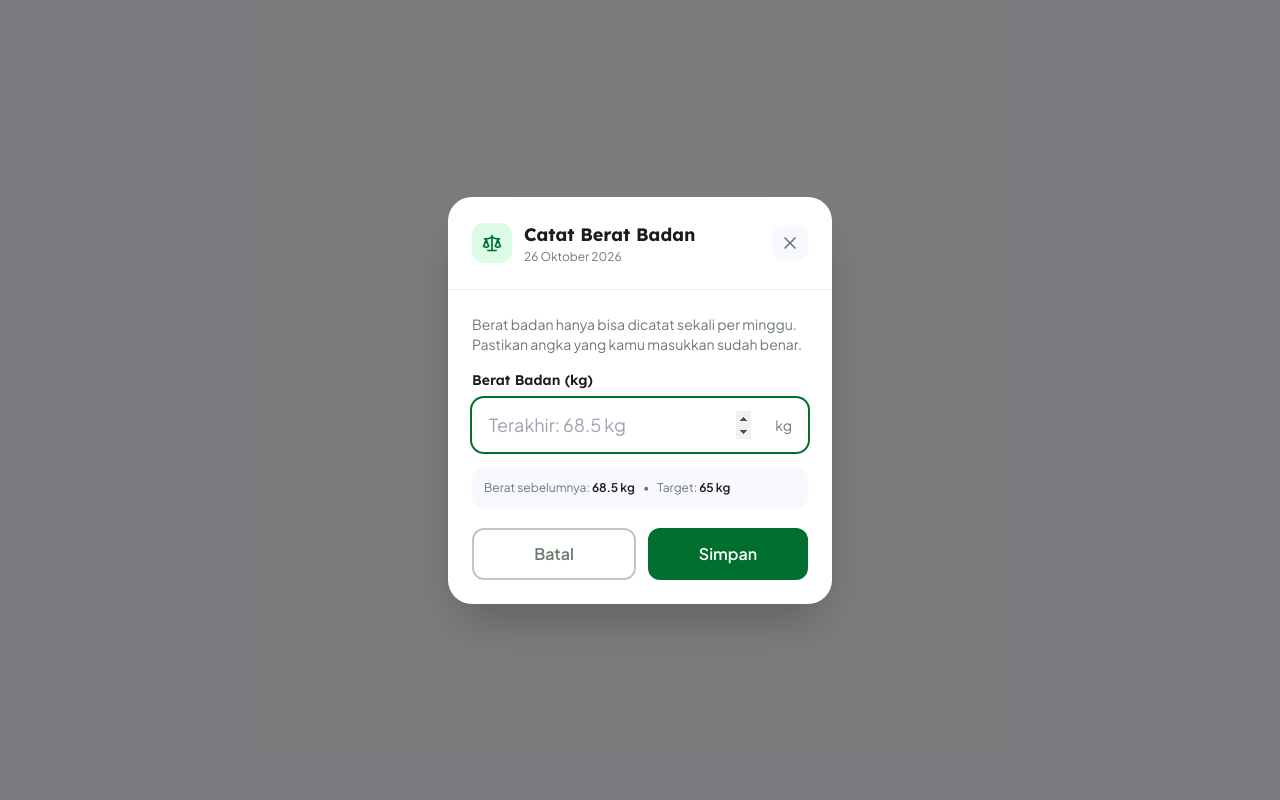
Test: WeightInputModal Component › menampilkan error saat berat di bawah 20 kg
Type "10" into the number field with test id "input-berat" at (640, 424), box [472,398,808,452]
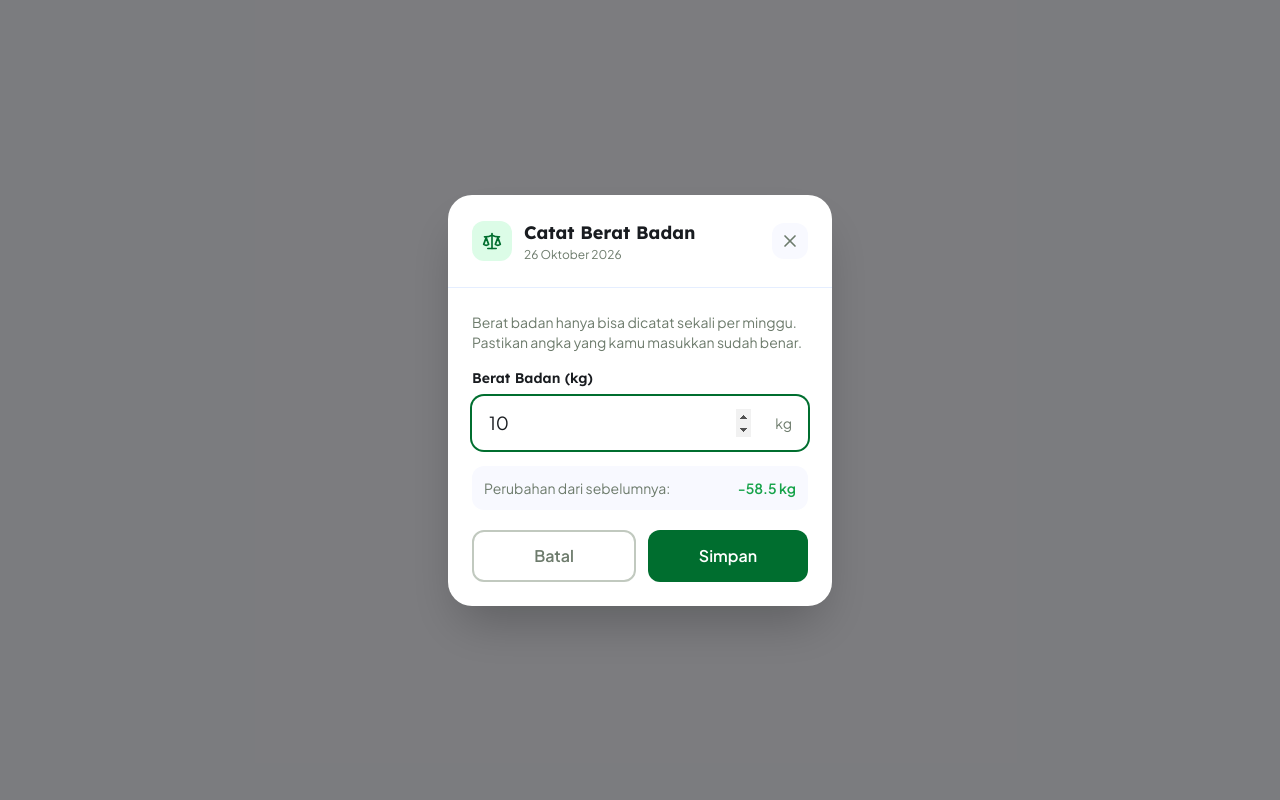
Click the button with test id "btn-simpan-berat" at (728, 556), box [648,530,808,582]
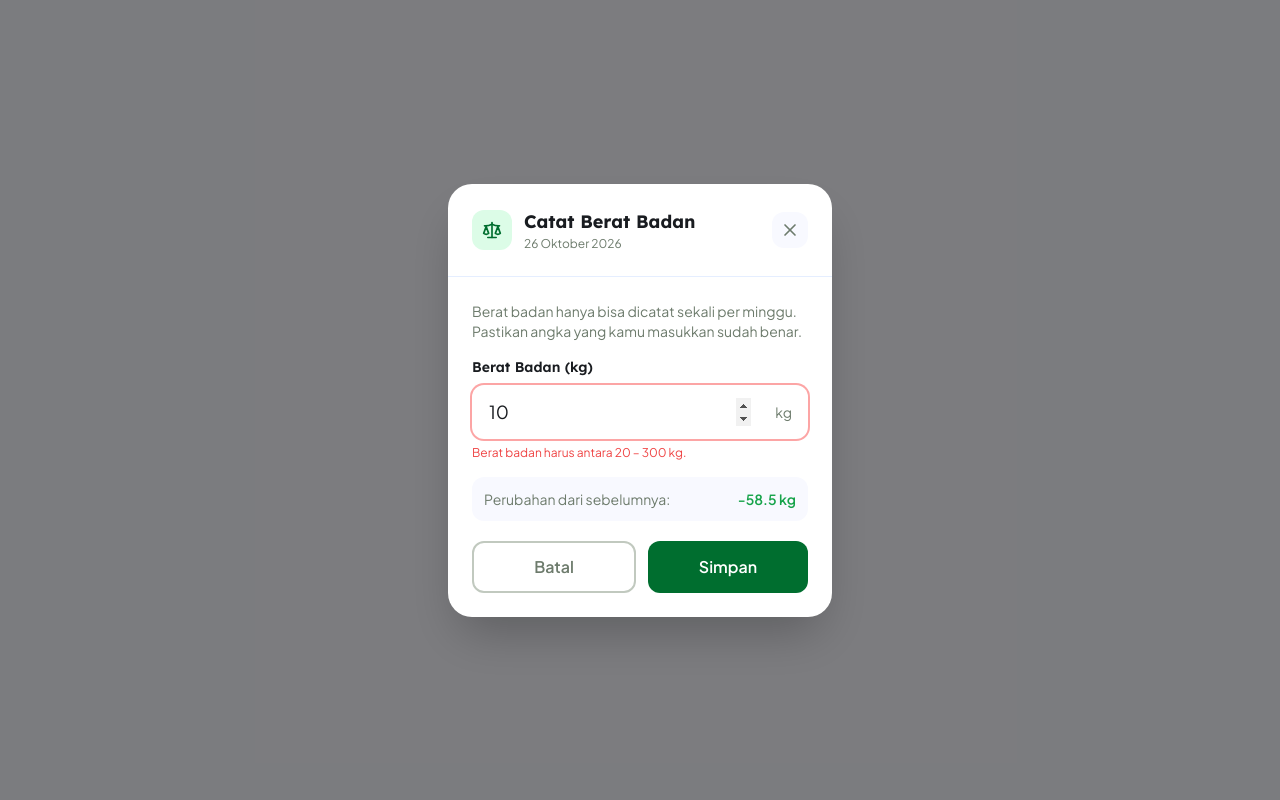
Check: the text "Berat badan harus antara 20 – 300 kg." is shown, box [472,444,686,460]
